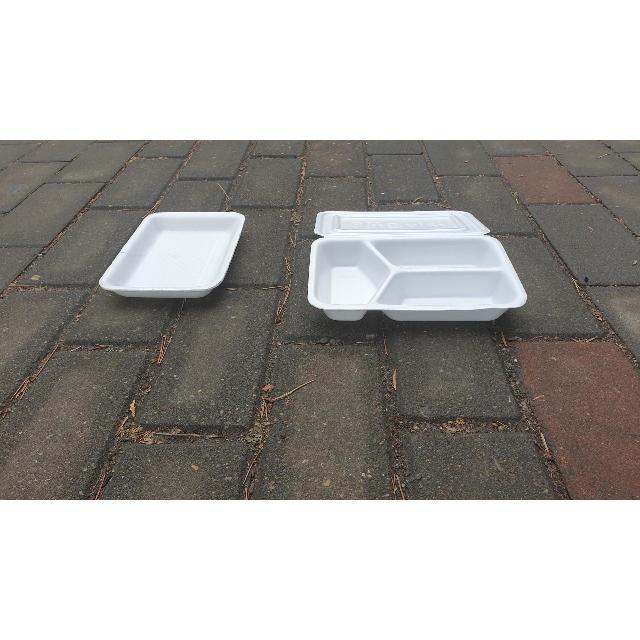Plastico descartable: (306, 211, 527, 322), (98, 212, 246, 299)
